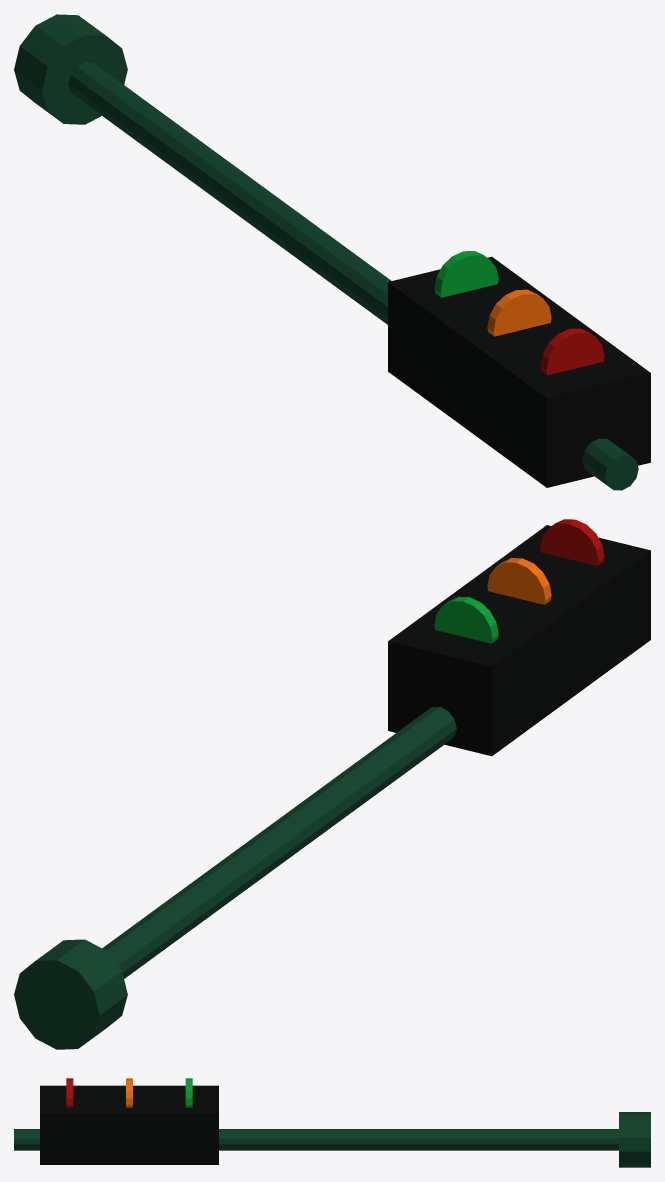
The model's file is traffic_light.obj.
The picture shows the model from 3 angles, top to bottom: view 1: azimuth 30°, elevation 25°; view 2: azimuth 150°, elevation 25°; view 3: azimuth 270°, elevation 25°; orthographic projection. The views are drawn at different scales.
Visible parts, largest first — view 1: traffic_light; view 2: traffic_light; view 3: traffic_light.
Boxes of the visible parts, x1=… form: traffic_light: x1=14, y1=14, x2=650, y2=490; traffic_light: x1=14, y1=519, x2=650, y2=1049; traffic_light: x1=14, y1=1078, x2=650, y2=1167.
Size of the model in its own units: 0.34 by 0.47 by 3.2.
